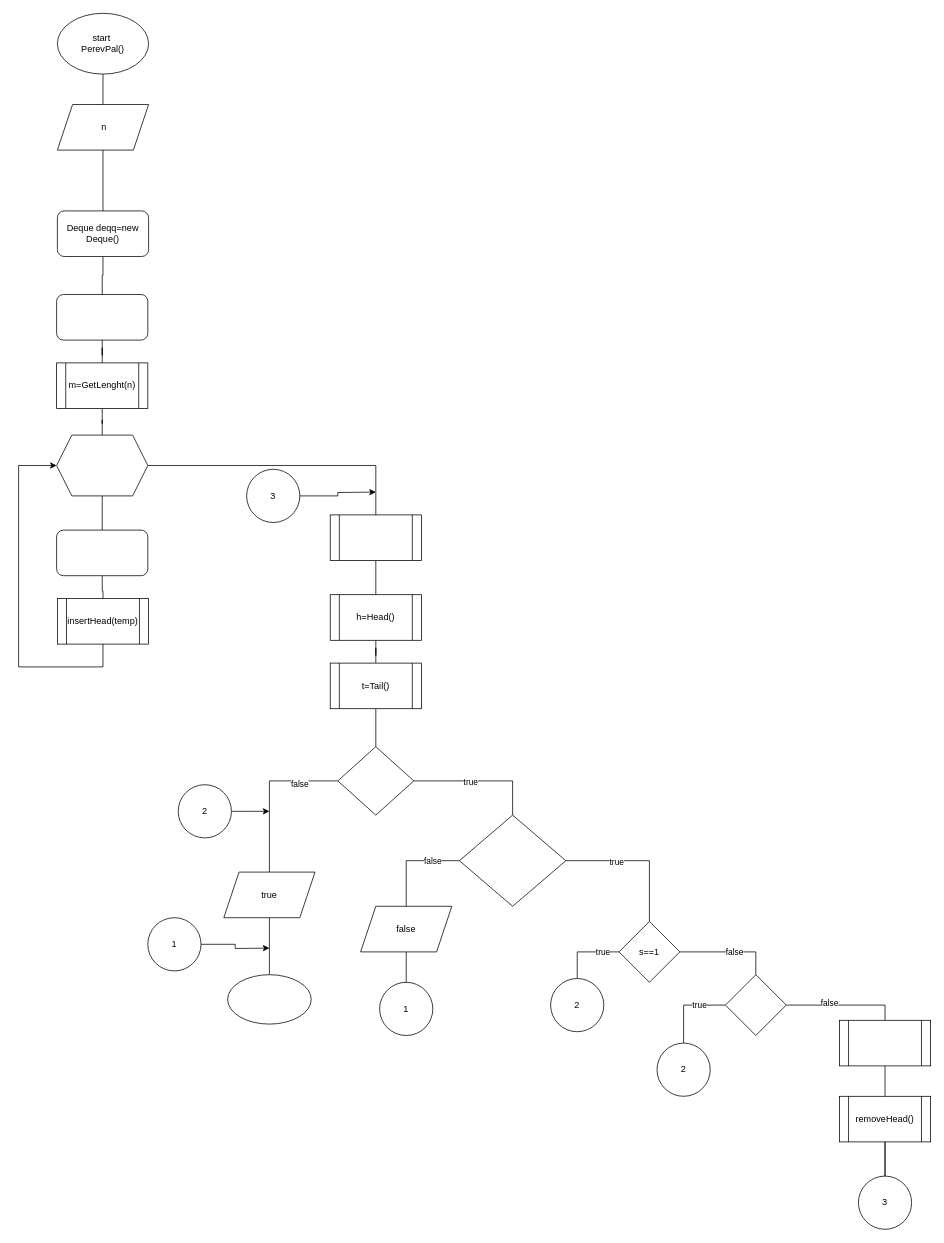
This 944x1243 diagram has some shape labels left out. Here are the shapes that lost their labels. From the top down, the centre of each, then its label:
[102,317]: int m,temp
[102,465]: int i=0;i<m;++
[102,552]: temp=n%10 n=n/10
[375,537]: s=isSize()
[375,780]: s!=0
[512,860]: h==t
[269,999]: end
[755,1005]: s==2
[885,1043]: removeTail()
